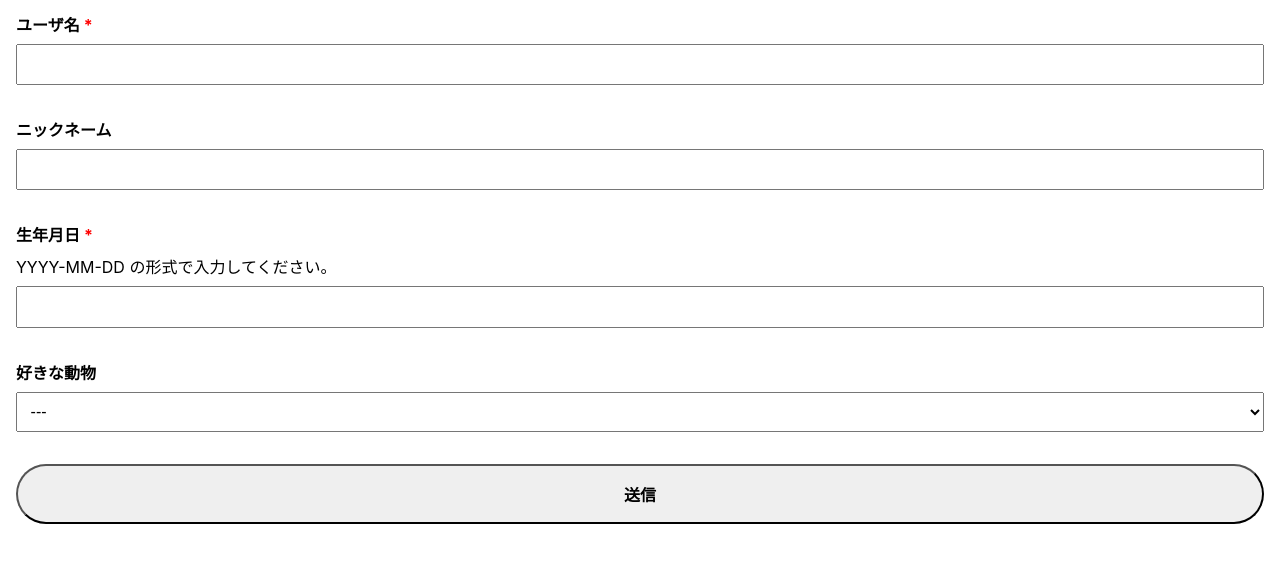
RegisterForm › 生年月日のバリデーション › 必須項目 › 入力していないと、エラーになって送信できない
This screenshot has width=1280, height=573.
Type "たろう" into the field labelled "ユーザ名" at (640, 65), box x1=16 y1=44 x2=1264 y2=85
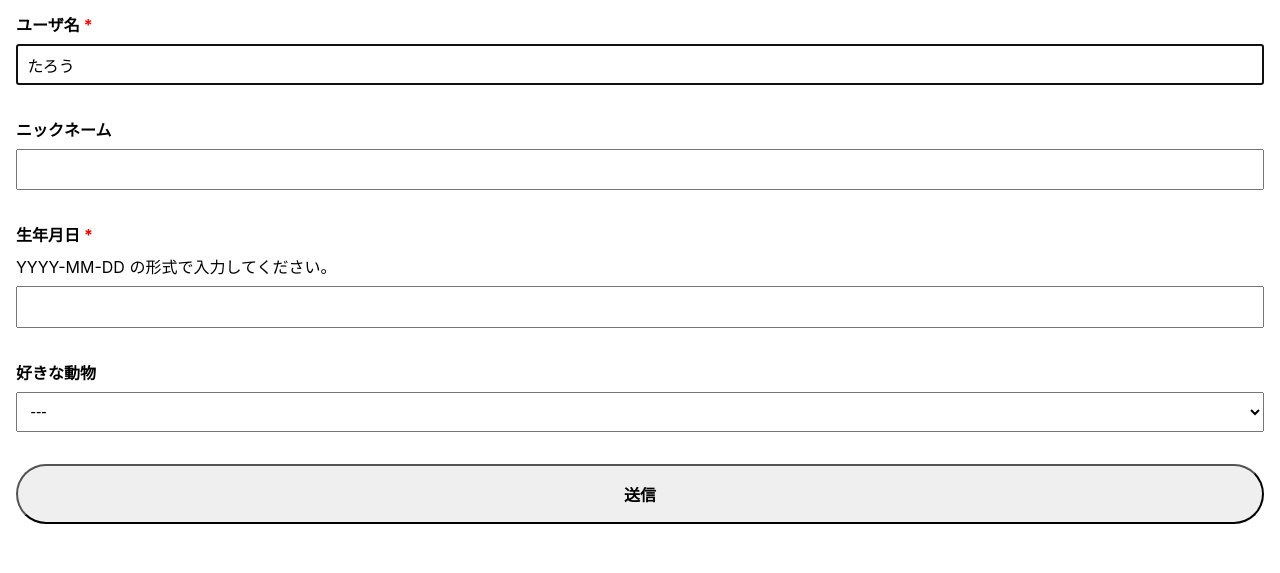
Type "たろちゃん" into the field labelled "ニックネーム" at (640, 170), box x1=16 y1=149 x2=1264 y2=190
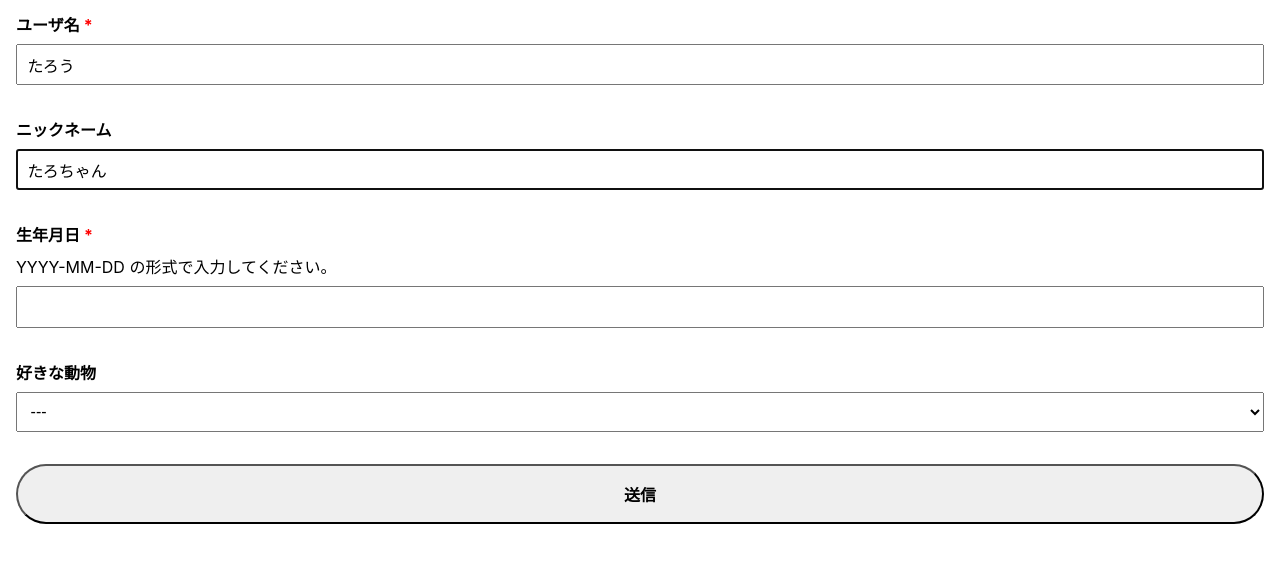
Select "イヌ" in the dropdown labelled "好きな動物" at (640, 412), box x1=16 y1=392 x2=1264 y2=432
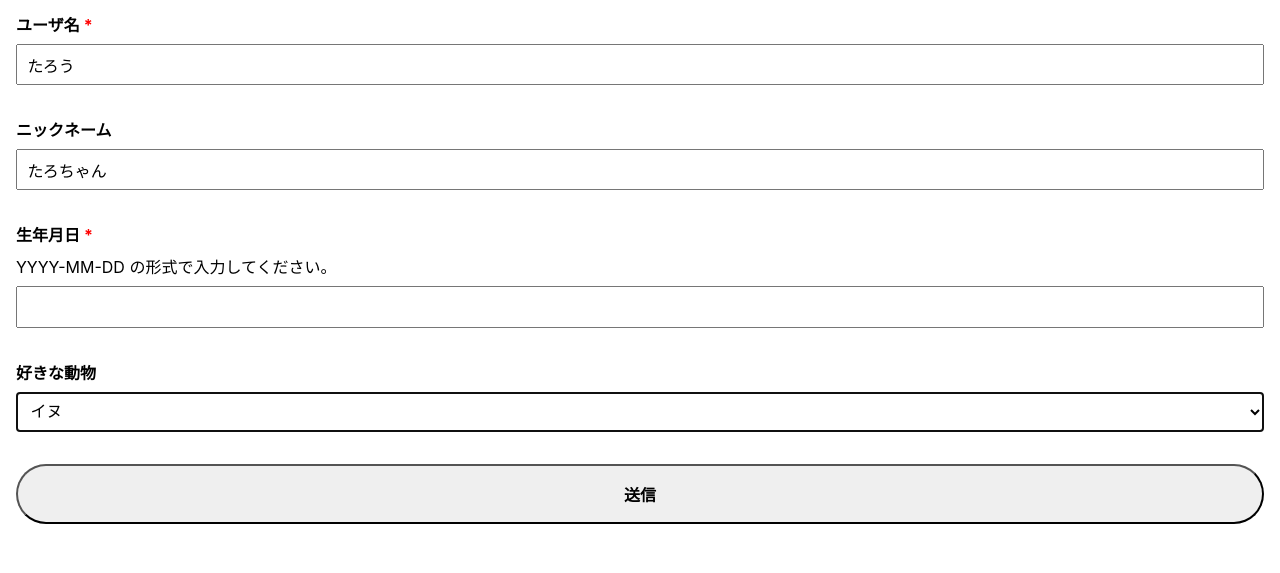
Click the button "送信" at (640, 494), box x1=16 y1=464 x2=1264 y2=524
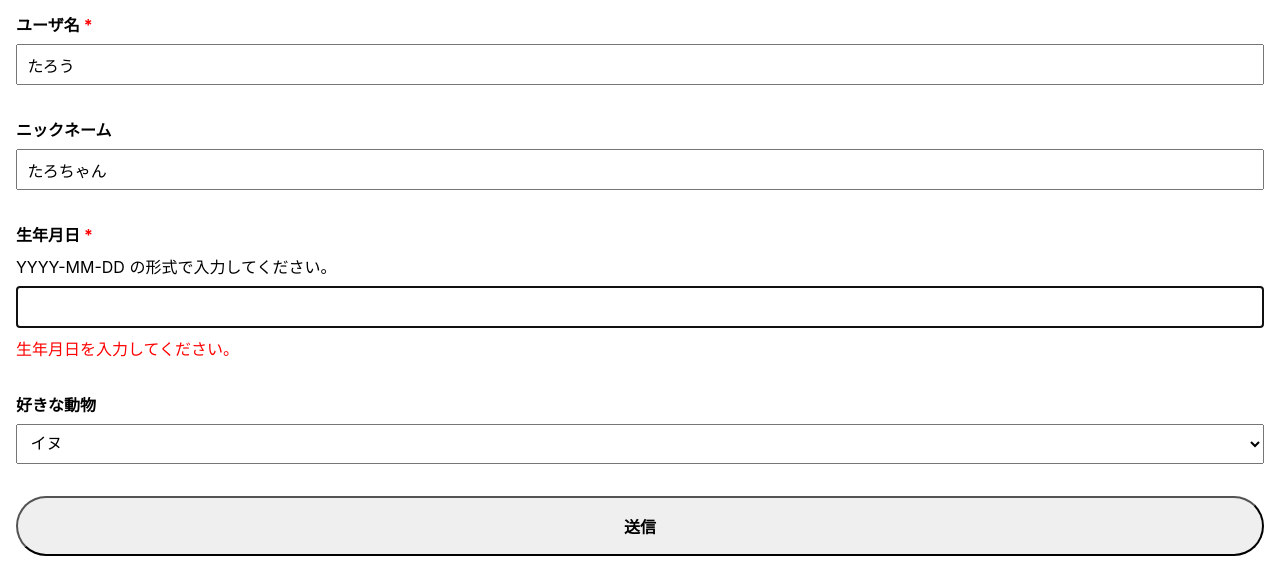
Expected: the text "生年月日を入力してください。" is shown, x1=16 y1=339 x2=239 y2=359
